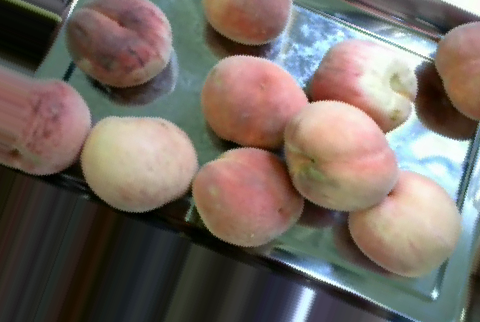Peach: (283, 100, 397, 213), (345, 169, 462, 272), (191, 146, 305, 249), (80, 115, 198, 211), (311, 37, 419, 132), (201, 52, 304, 144), (65, 0, 173, 87), (436, 20, 479, 122), (199, 0, 293, 43)
